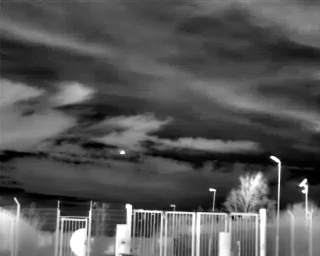HELICOPTER: (117, 147, 128, 157)
